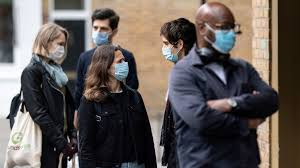with_mask: (195, 3, 238, 54), (107, 50, 129, 85), (161, 32, 185, 62), (45, 31, 65, 63), (92, 20, 112, 46)
